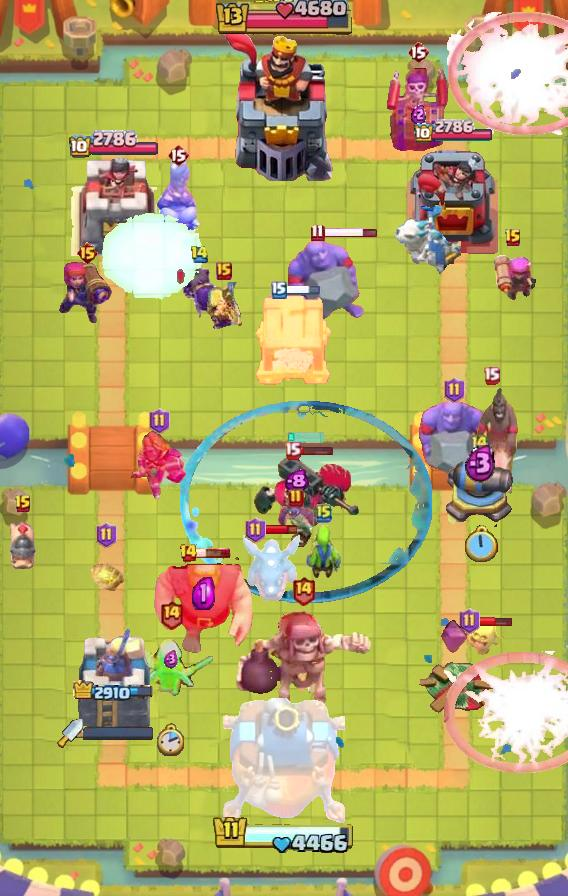archer-queen: (286, 238, 368, 322), (415, 400, 493, 482)
arrows: (203, 282, 244, 330)
balloon: (152, 557, 254, 655)
bar: (75, 623, 153, 731)
barbarian-barrel: (276, 504, 316, 530)
barbarian-evolution: (444, 651, 568, 773), (448, 12, 568, 135)
bat-evolution: (462, 618, 504, 656)
bomb: (253, 292, 333, 386)
clock: (212, 814, 356, 856), (213, 0, 355, 38)
electro-giant: (232, 609, 374, 723)
electro-spirit: (463, 443, 496, 483), (193, 577, 216, 610), (284, 469, 309, 494), (410, 103, 425, 125), (164, 651, 178, 669)
elite-barbarian: (156, 161, 200, 243)
elixir: (462, 525, 497, 565), (158, 723, 186, 757)
emote: (322, 226, 377, 239), (285, 284, 322, 297), (263, 524, 298, 537), (195, 547, 231, 559), (298, 444, 334, 455), (477, 616, 513, 627)
executioner: (7, 515, 39, 573)
freeze: (462, 387, 520, 499)
goblin-ball: (176, 259, 222, 323)
graveyard: (239, 532, 301, 604)
ice-spirit: (285, 432, 327, 444)
ice-spirit-evolution: (86, 551, 126, 595)
inferno-tower: (251, 454, 361, 550)
king-tower: (223, 31, 345, 181), (223, 698, 345, 826)
king-tower-bar: (83, 726, 155, 740)
mega-knight: (99, 211, 205, 304)
mega-minion: (59, 254, 115, 326)
mini-pekka: (391, 204, 461, 276)
pad_0: (180, 400, 432, 604)
poison: (127, 634, 215, 708)
queen-tower: (403, 146, 503, 256), (71, 156, 157, 256)
royal-recruit: (443, 457, 517, 527)
selected: (68, 130, 160, 160), (414, 119, 495, 145), (73, 680, 155, 704)
skeleton-king-bar: (387, 65, 449, 151)
skeleton-king-skill: (440, 619, 468, 655)
tesla-evolution: (130, 428, 188, 502)
text: (291, 574, 316, 605), (160, 599, 185, 630), (77, 241, 100, 265), (444, 377, 465, 403), (149, 408, 170, 434), (245, 517, 266, 543), (96, 522, 117, 548), (460, 608, 481, 634), (407, 40, 429, 64), (167, 143, 189, 167), (470, 434, 490, 455), (178, 543, 198, 563), (504, 228, 522, 248), (14, 494, 32, 514), (191, 245, 210, 263), (483, 367, 501, 385), (288, 488, 304, 508), (316, 503, 332, 523), (284, 441, 301, 459), (216, 262, 232, 280), (271, 281, 287, 299), (311, 223, 325, 242)
tombstone: (492, 250, 537, 300)
zap: (305, 522, 343, 580)
